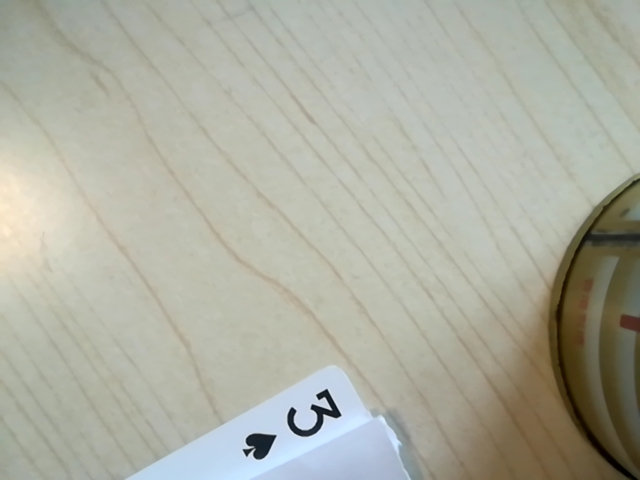ht 3: (225, 381, 365, 463)
